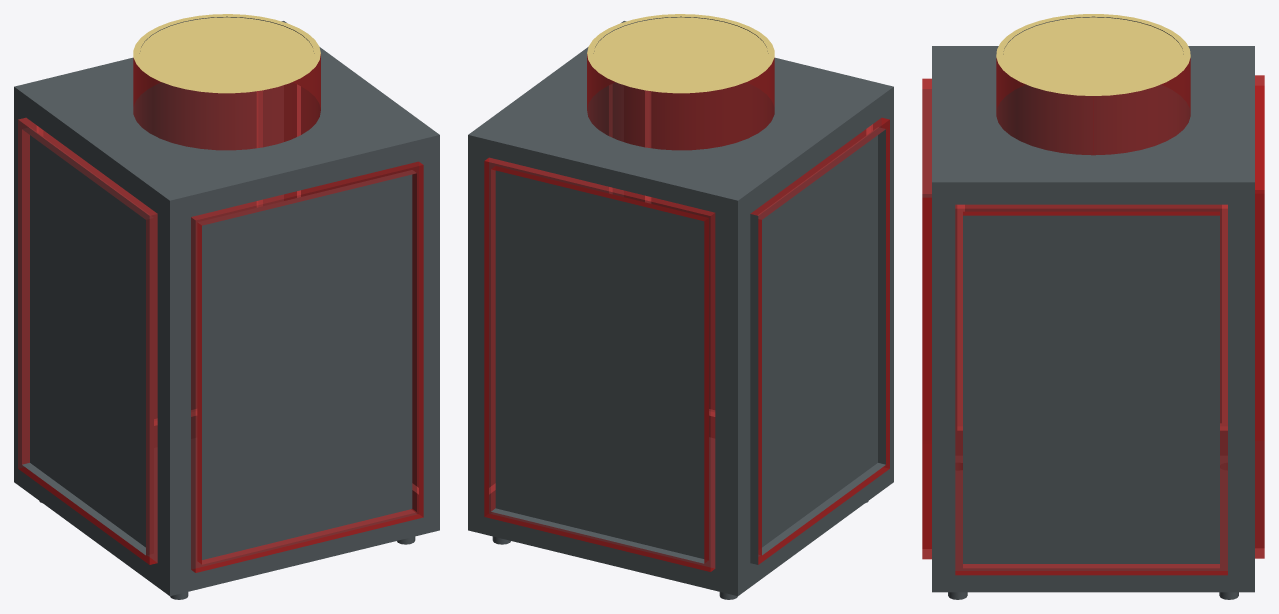
Rendered from vitrinaa.obj.
3 views of the same model, side by side, from view 1: azimuth 30°, elevation 25°; view 2: azimuth 150°, elevation 25°; view 3: azimuth 270°, elevation 25° (orthographic). The views are drawn at different scales.
Parts seen in each view (by area): view 1: Sólido1; view 2: Sólido1; view 3: Sólido1.
Boxes of the visible parts, <box> form: Sólido1: <box>14,14,439,599</box>; Sólido1: <box>468,14,893,599</box>; Sólido1: <box>922,14,1264,599</box>.
Size of the model in its own units: 530 by 826 by 530.
